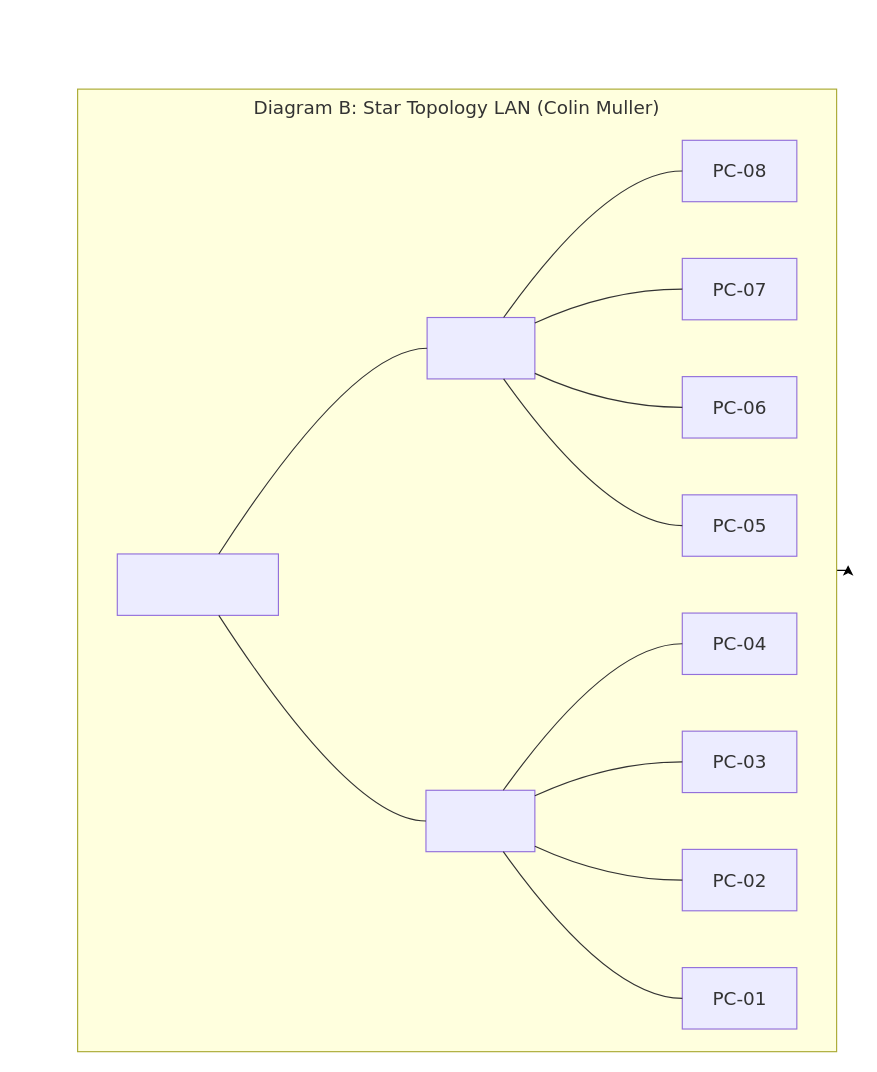
The diagram is 877 pixels wide and 1072 high, and some of its shapes have lost their labels. Here are the shapes that lost their labels. From the top down, the centre of each, then its label:
At (480,347): "SW-B".
At (197,584): "Core-SW-01".
At (480,820): "SW-A".
